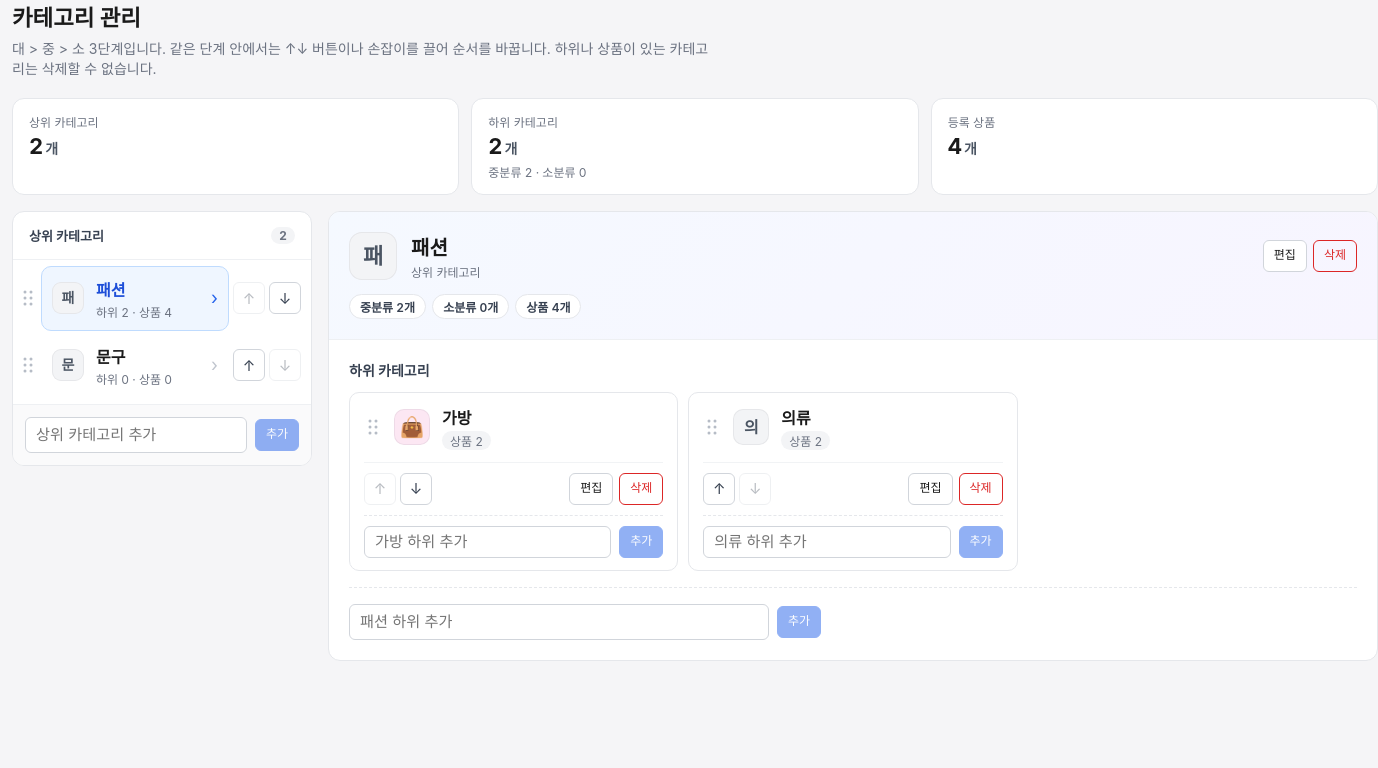
Test: CategoriesPage › shows the server reason when a delete is refused
The width and height of the screenshot is (1378, 768).
Click the button "삭제" below "가방" at point(641, 489), box x1=619 y1=473 x2=663 y2=505
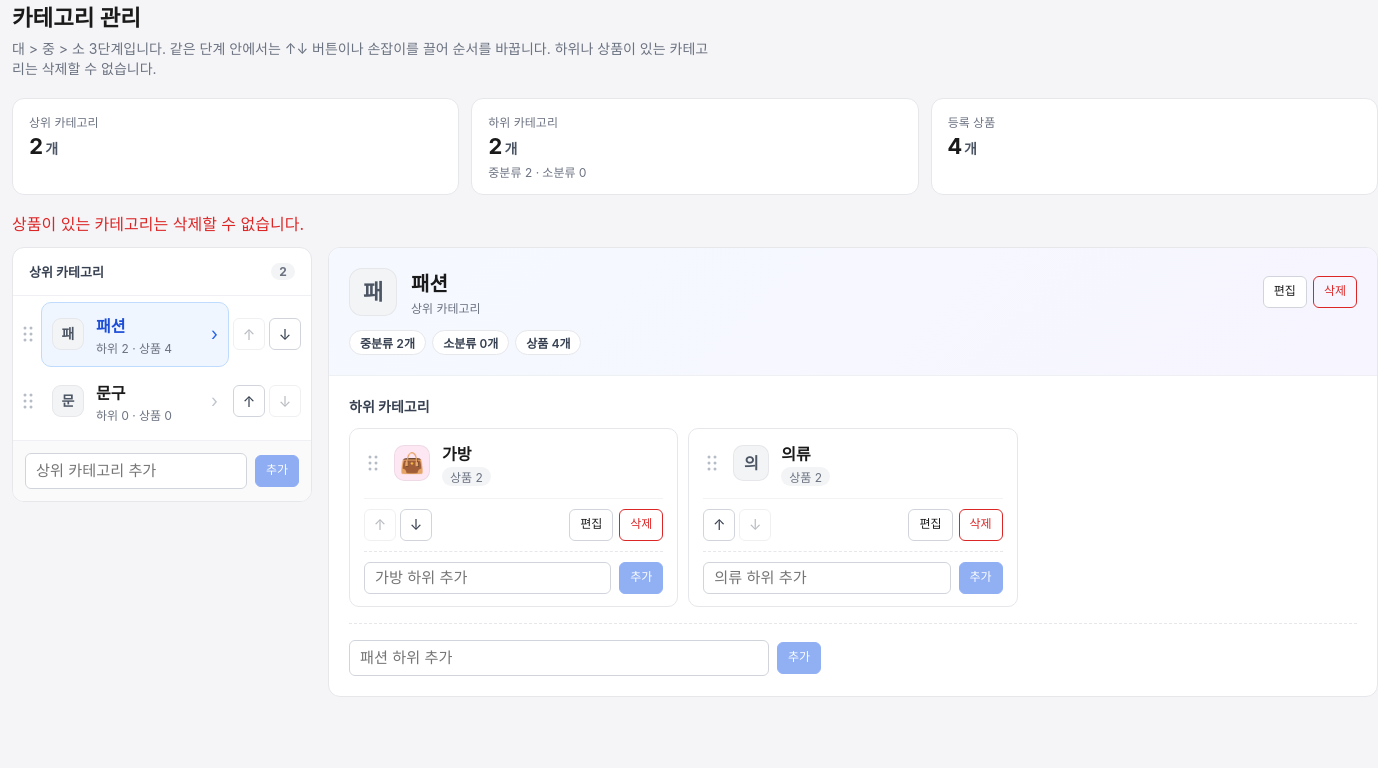
Result: the text "상품이 있는 카테고리는 삭제할 수 없습니다." is shown at x1=12 y1=214 x2=304 y2=234
